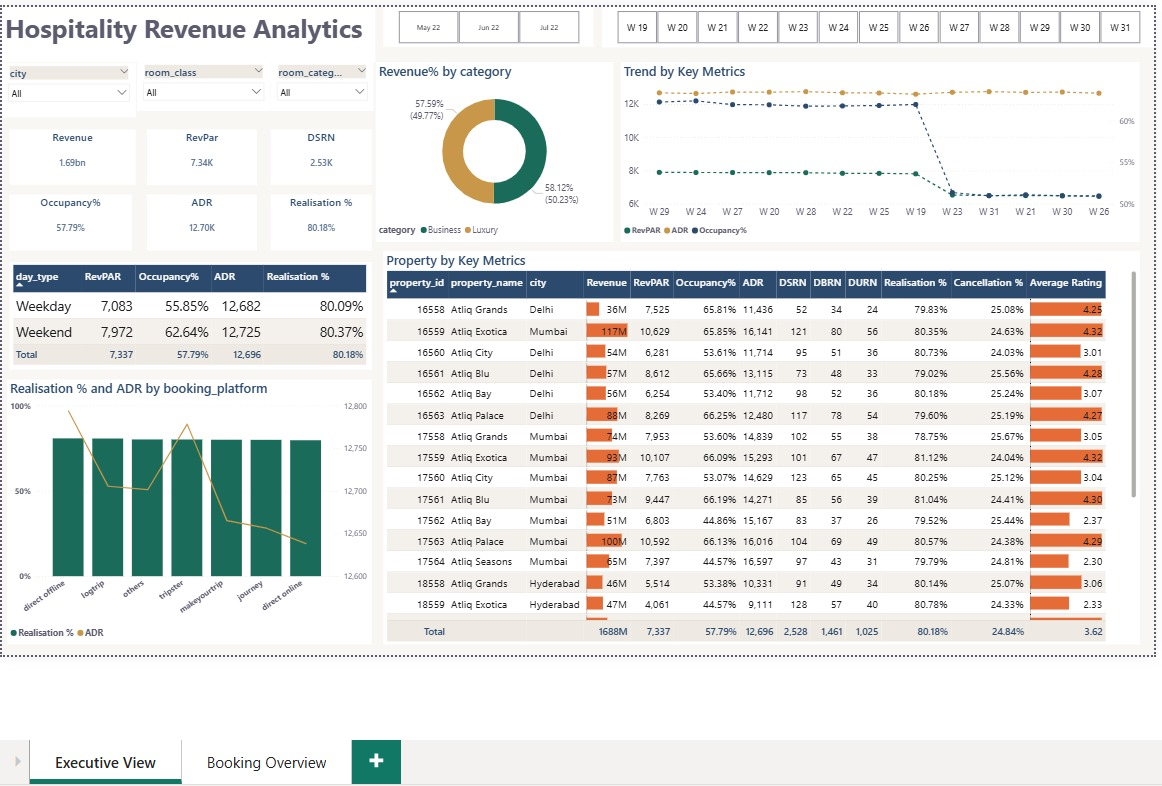

This screenshot's page, from the dashboard's own definition file:
{"tool":"powerbi","page":{"name":"Executive View","canvas":[1920,1080],"ordinal":0},"visuals":[{"type":"slicer","fields":{"Values":["dim_hotels.city"]},"box":[0,92.8,223.1,90.6],"z":0},{"type":"slicer","fields":{"Values":["dim_rooms.room_class"]},"box":[224.1,92.6,222.2,81.5],"z":1000},{"type":"slicer","fields":{"Values":["fact_aggregated_bookings.room_category"]},"box":[446.9,91.8,171.4,81.6],"z":2000},{"type":"slicer","fields":{"Values":["dim_date.mmm yy"]},"box":[653.1,0,346.9,67.3],"z":3000},{"type":"tableEx","title":"Property by Key Metrics","fields":{"Values":["dim_hotels.property_id","dim_hotels.property_name","dim_hotels.city","key_measures.Revenue","key_measures.RevPAR (Revenue per available room)","key_measures.Occupancy%","key_measures.ADR (Average Daily Rate)","key_measures.DSRN (Daily Sellable Room Nights)","key_measures.DBRN (Daily Booked Room Nights)","key_measures.DURN (Daily Utilized Room Nights)","key_measures.Realisation %","key_measures.Cancellation %"]},"box":[635.4,406.2,1260.4,656.2],"z":4000},{"type":"slicer","fields":{"Values":["dim_date.week no"]},"box":[1000,0,920.4,67.3],"z":5000},{"type":"card","title":"Revenue","fields":{"Values":["key_measures.Revenue"]},"box":[13,203.7,224.1,92.6],"z":6000},{"type":"donutChart","title":"Revenue% by category","fields":{"Category":["dim_hotels.category"],"Y":["key_measures.Occupancy%"]},"box":[622.4,91.8,395.9,300],"z":7000},{"type":"card","title":"DSRN","fields":{"Values":["key_measures.DSRN (Daily Sellable Room Nights)"]},"box":[466.7,203.7,150,92.6],"z":8000},{"type":"card","title":"RevPar","fields":{"Values":["key_measures.RevPAR (Revenue per available room)"]},"box":[242.6,203.7,183.3,92.6],"z":9000},{"type":"card","title":"Occupancy%","fields":{"Values":["key_measures.Occupancy%"]},"box":[18.5,331.5,224.1,92.6],"z":10000},{"type":"card","title":"ADR","fields":{"Values":["key_measures.ADR (Average Daily Rate)"]},"box":[222.2,331.5,224.1,92.6],"z":11000},{"type":"card","title":"Realisation %","fields":{"Values":["key_measures.Realisation %"]},"box":[425.9,331.5,190.7,92.6],"z":12000},{"type":"lineChart","title":"Trend by Key Metrics","fields":{"Category":["dim_date.week no"],"Y":["key_measures.RevPAR (Revenue per available room)","key_measures.ADR (Average Daily Rate)"],"Y2":["key_measures.Occupancy%"]},"box":[1031.2,91.7,864.6,300],"z":13000},{"type":"tableEx","fields":{"Values":["dim_date.day_type","key_measures.RevPAR (Revenue per available room)","key_measures.Occupancy%","key_measures.ADR (Average Daily Rate)","key_measures.Realisation %"]},"box":[75,466.7,470.8,160.4],"z":14000},{"type":"lineStackedColumnComboChart","fields":{"Category":["fact_bookings.booking_platform"],"Y":["key_measures.Realisation %"],"Y2":["key_measures.ADR (Average Daily Rate)"]},"box":[8.3,650,579.2,412.5],"z":15000},{"type":"textbox","box":[161.1,444.4,307.4,46.3],"z":16000},{"type":"textbox","box":[0,0,622.4,91.8],"z":17000}]}

Visuals, with their boxes on the page's 1920x1080 design canvas (x1, y1, x2, y2). These are canvas units, not pixel positions in the 1162x786 screenshot, which may show the page scaled, cropped or inside an application window:
slicer - dim_hotels.city: (0, 93, 223, 183)
slicer - dim_rooms.room_class: (224, 93, 446, 174)
slicer - fact_aggregated_bookings.room_category: (447, 92, 618, 173)
slicer - dim_date.mmm yy: (653, 0, 1000, 67)
"Property by Key Metrics" tableEx: (635, 406, 1896, 1062)
slicer - dim_date.week no: (1000, 0, 1920, 67)
"Revenue" card: (13, 204, 237, 296)
"Revenue% by category" donutChart: (622, 92, 1018, 392)
"DSRN" card: (467, 204, 617, 296)
"RevPar" card: (243, 204, 426, 296)
"Occupancy%" card: (18, 332, 243, 424)
"ADR" card: (222, 332, 446, 424)
"Realisation %" card: (426, 332, 617, 424)
"Trend by Key Metrics" lineChart: (1031, 92, 1896, 392)
tableEx - dim_date.day_type x key_measures.RevPAR (Revenue per available room): (75, 467, 546, 627)
lineStackedColumnComboChart - fact_bookings.booking_platform x key_measures.Realisation %: (8, 650, 588, 1062)
textbox: (161, 444, 468, 491)
textbox: (0, 0, 622, 92)
